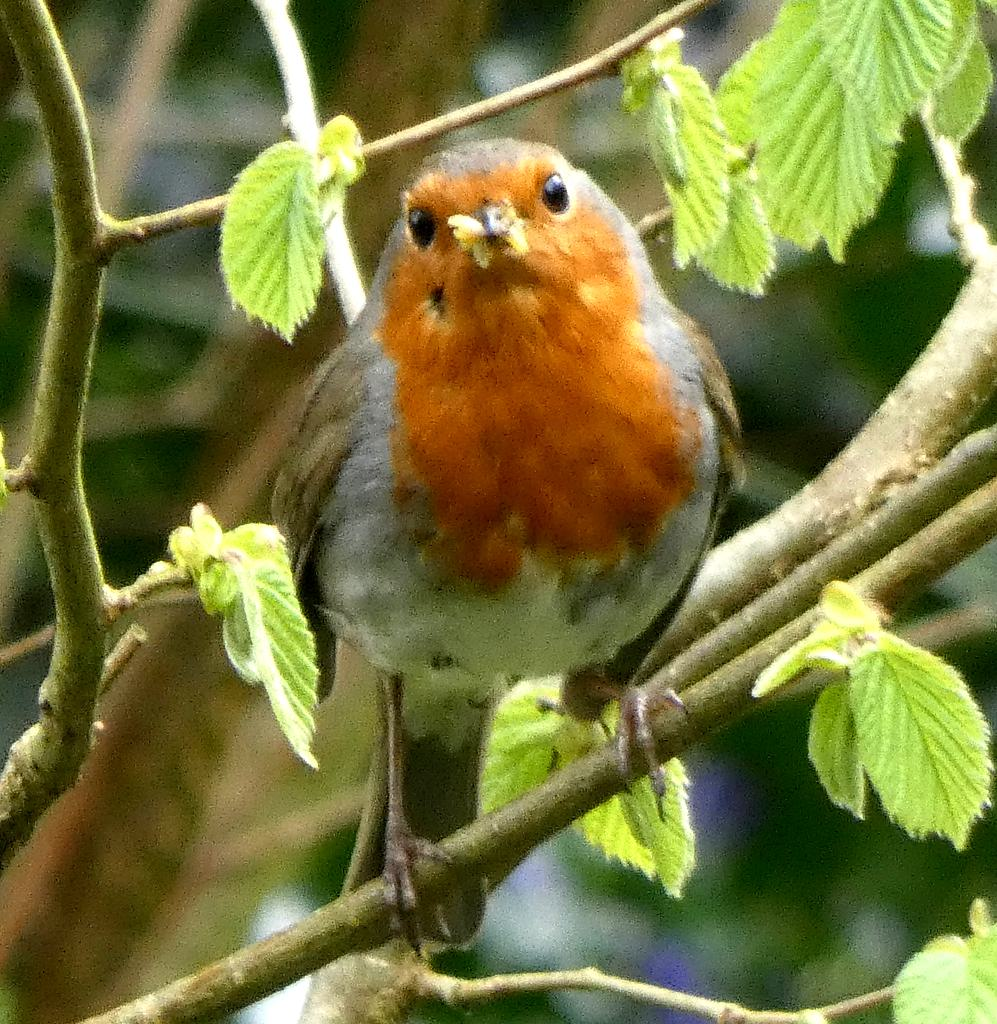ErithacusRubecula: (271, 136, 740, 958)
